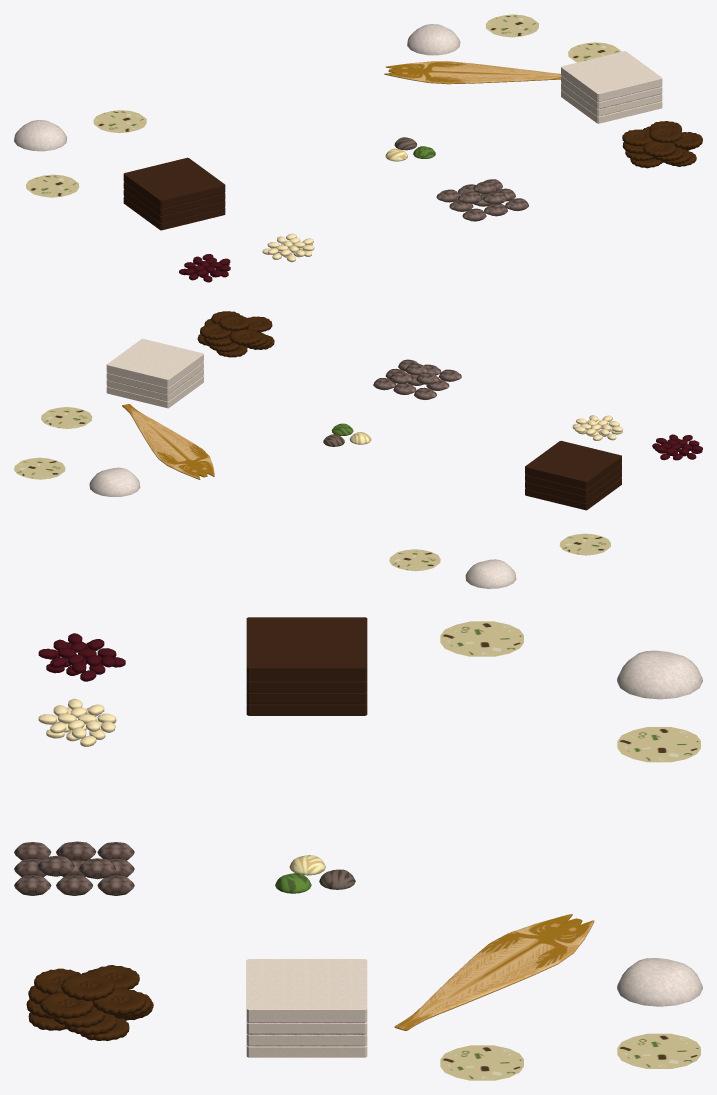
File: food.fbx
The picture shows the model from 3 angles, top to bottom: view 1: azimuth 30°, elevation 25°; view 2: azimuth 150°, elevation 25°; view 3: azimuth 270°, elevation 25°; orthographic projection. The views are drawn at different scales.
Visible parts, largest first — view 1: Cube.267, Cube.001, Cube.286, Sphere.014, Sphere.012, Cube.009, Cube.007, Cube.011, Cube.010, Cylinder.036, Cylinder.022; view 2: Cube.001, Cube.267, Cube.286, Sphere.012, Sphere.014, Cube.009, Cube.007, Cube.010, Cube.011; view 3: Cube.267, Cube.001, Cube.286, Sphere.012, Sphere.014, Cube.009, Cube.011, Cube.007, Cube.010, Cylinder.036, Cylinder.021, Cylinder.019 (+2 smaller).
Boxes of the visible parts, x1,y1,x2,y2 form: Cube.267: (123,157,225,230); Cube.001: (561,51,662,123); Cube.286: (384,61,561,84); Sphere.014: (407,24,460,55); Sphere.012: (14,120,67,151); Cube.009: (93,110,146,133); Cube.007: (485,14,538,37); Cube.011: (26,174,79,197); Cube.010: (568,42,621,62); Cylinder.036: (649,126,681,142); Cylinder.022: (643,141,675,157); Cube.001: (106,338,203,408); Cube.267: (525,440,621,510); Cube.286: (122,404,214,479); Sphere.012: (465,559,516,588); Sphere.014: (89,467,140,496); Cube.009: (389,549,440,571); Cube.007: (14,457,65,479); Cube.010: (41,407,92,428); Cube.011: (559,533,610,555); Cube.267: (246,617,367,715); Cube.001: (246,959,367,1057); Cube.286: (394,914,594,1030); Sphere.012: (617,650,702,699); Sphere.014: (617,958,702,1006); Cube.009: (617,727,700,762); Cube.011: (440,621,523,656); Cube.007: (617,1033,700,1068); Cube.010: (440,1045,523,1080); Cylinder.036: (61,973,114,1000); Cylinder.021: (93,988,145,1015); Cylinder.019: (40,992,93,1018).
Size of the model in its own units: 108 by 6.43 by 68.54.
